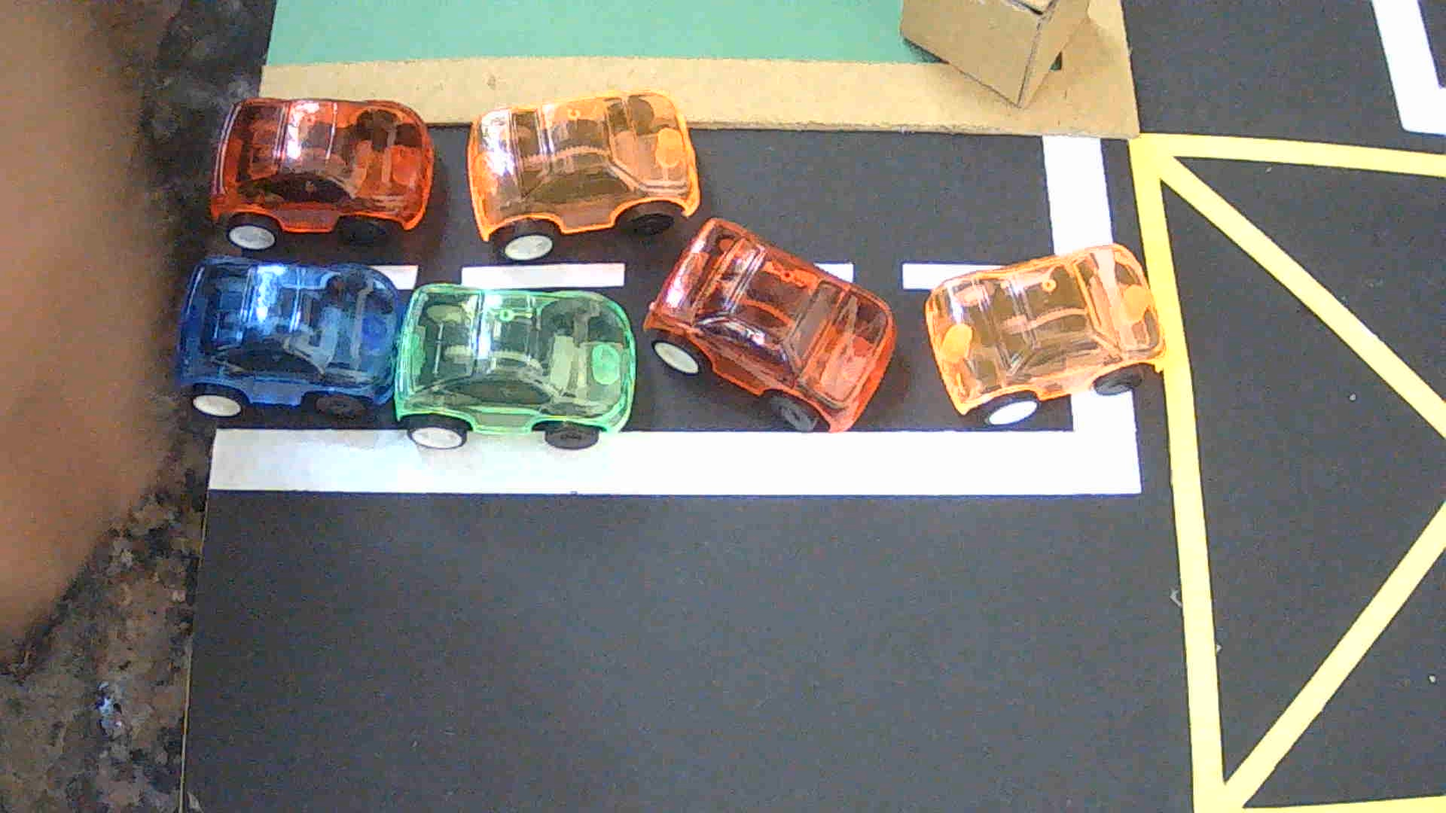Mobil biru: (175, 256, 401, 417)
Mobil hijau: (395, 284, 636, 449)
Mobil merah: (644, 218, 895, 432), (211, 98, 432, 251)
Mobil orange: (924, 244, 1167, 425), (468, 90, 700, 261)
